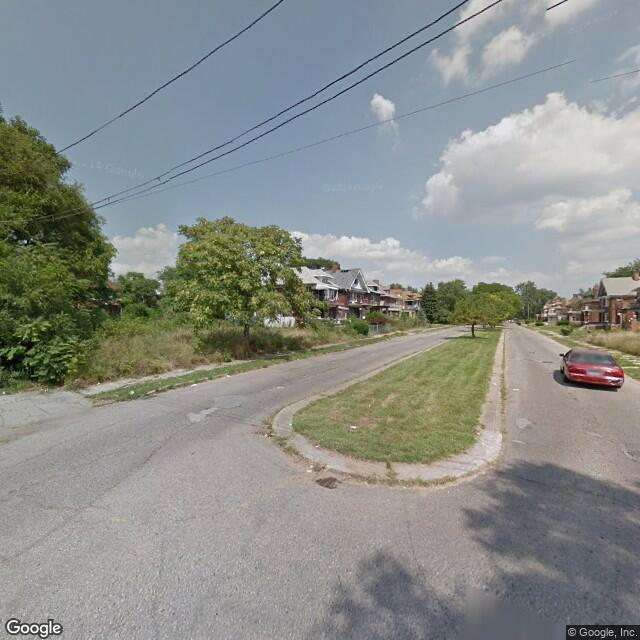litter: (307, 460, 317, 476), (123, 389, 137, 397), (90, 379, 104, 387), (1, 388, 13, 397), (350, 424, 360, 434), (38, 386, 50, 393), (220, 373, 231, 379)
